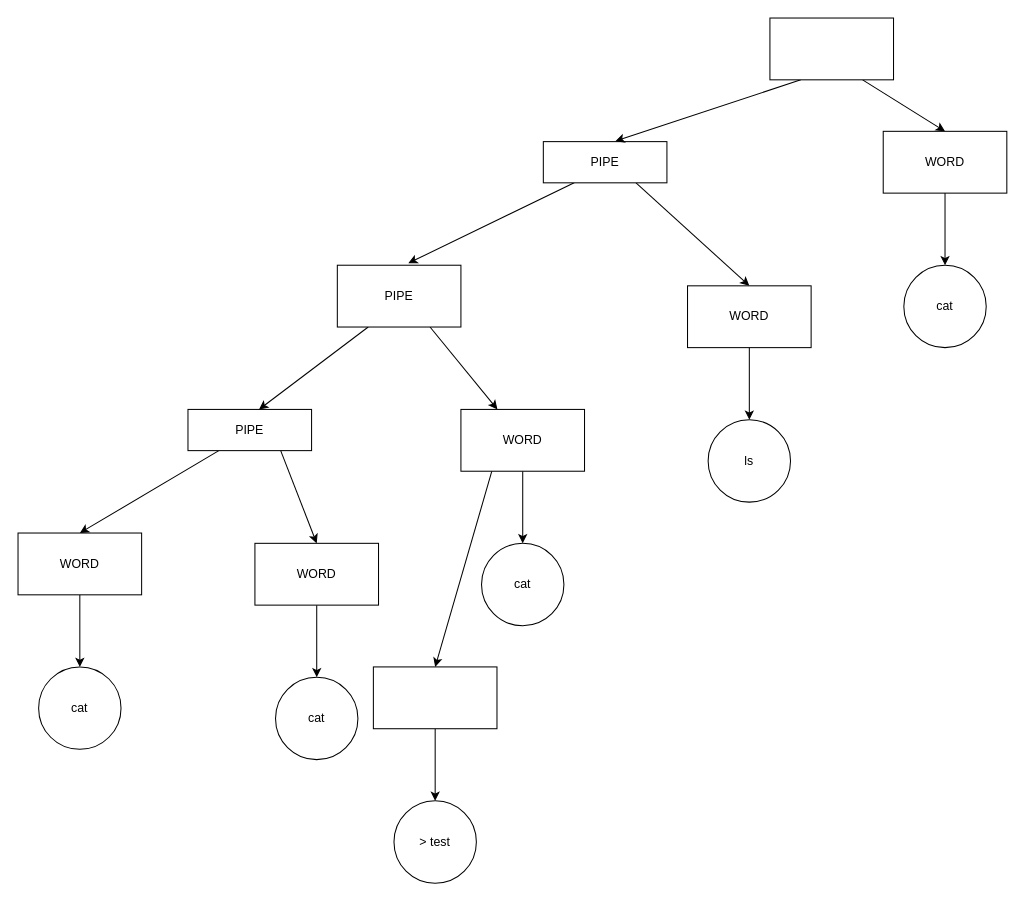
The diagram is 1025 pixels wide and 901 high, and some of its shapes have lost their labels. Each missing label, with the box of its shape:
AND: (769, 17, 894, 80)
redirection: (372, 666, 497, 729)
